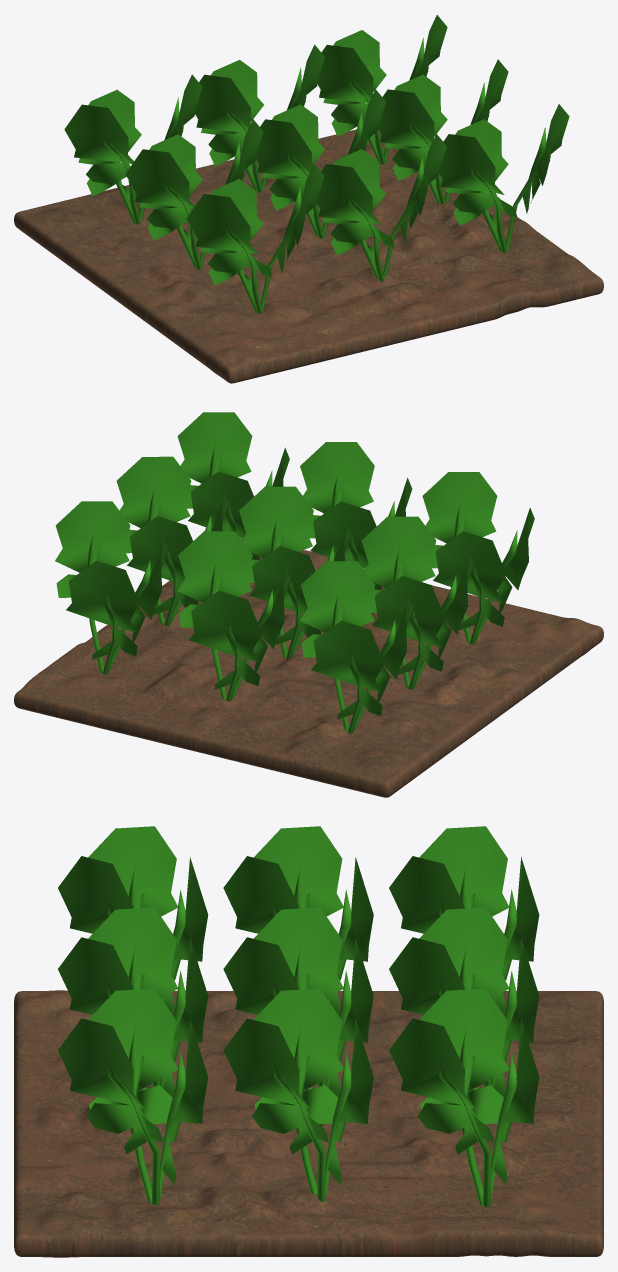
Rendered from root-vegetables1.fbx.
3 views of the same model, one above another, from view 1: azimuth 30°, elevation 25°; view 2: azimuth 150°, elevation 25°; view 3: azimuth 270°, elevation 25° (orthographic). The views are drawn at different scales.
Parts seen in each view (by area): view 1: 栅格, RadishAltST; view 2: RadishAltST, 栅格; view 3: RadishAltST, 栅格.
Boxes of the visible parts, x1,y1,x2,y2 form: 栅格: [14, 129, 603, 383]; RadishAltST: [64, 15, 569, 313]; RadishAltST: [55, 412, 534, 734]; 栅格: [14, 539, 603, 797]; RadishAltST: [58, 826, 539, 1207]; 栅格: [14, 990, 603, 1257].
Size of the model in its own units: 155 by 64.75 by 152.
